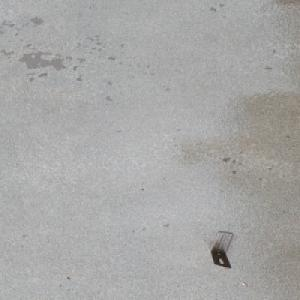MetalPart: (208, 231, 234, 269)
